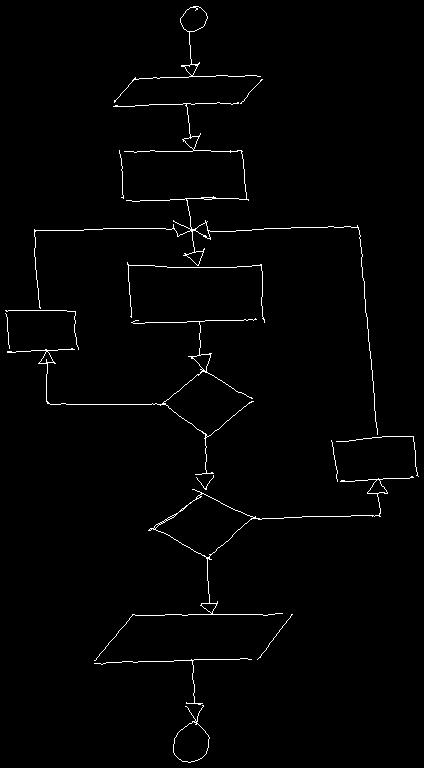arrow: (191, 220, 377, 434), (34, 220, 195, 308), (38, 349, 165, 404), (254, 478, 387, 519), (183, 199, 204, 265), (188, 321, 211, 372), (185, 659, 203, 721), (195, 435, 213, 489), (200, 559, 217, 613), (182, 104, 200, 149), (181, 32, 199, 76)
connection: (173, 721, 209, 762), (180, 6, 207, 31)
data: (94, 613, 292, 664), (113, 75, 262, 106)
decision: (148, 489, 261, 559), (160, 369, 253, 438)
process: (127, 262, 264, 323), (119, 150, 248, 201), (331, 436, 418, 481), (5, 310, 78, 352)
